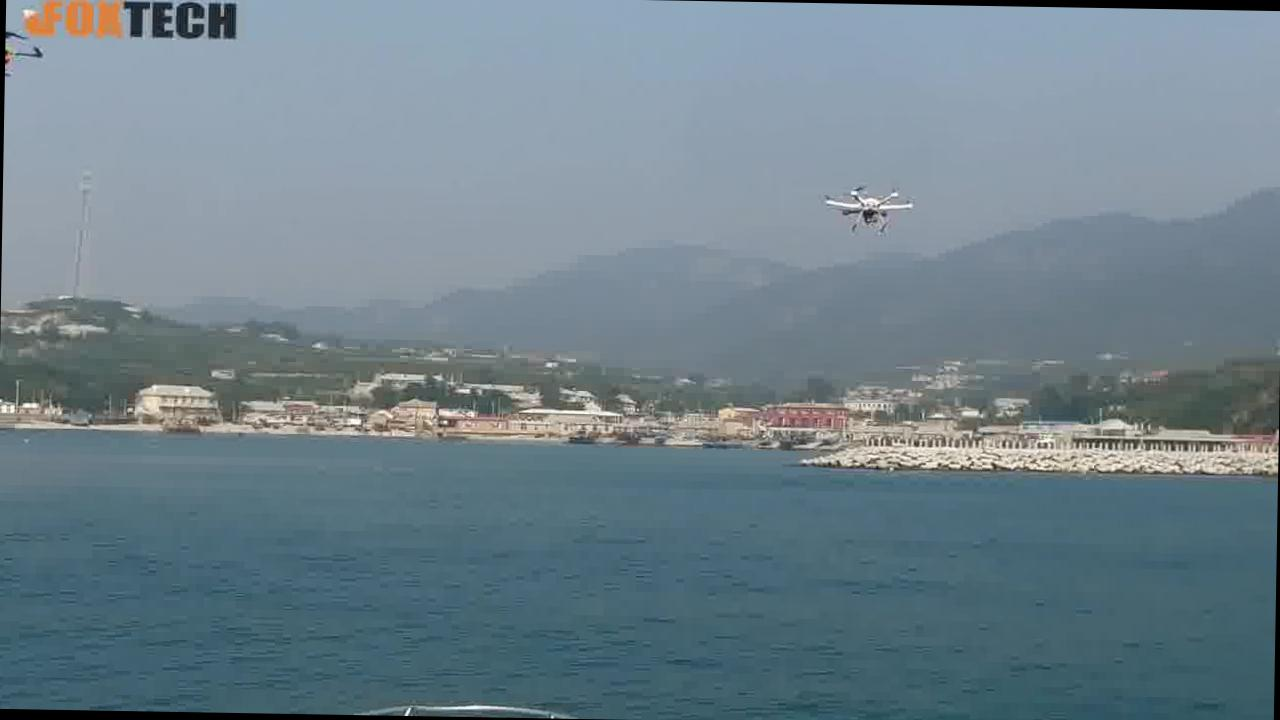drone: (825, 172, 932, 240)
